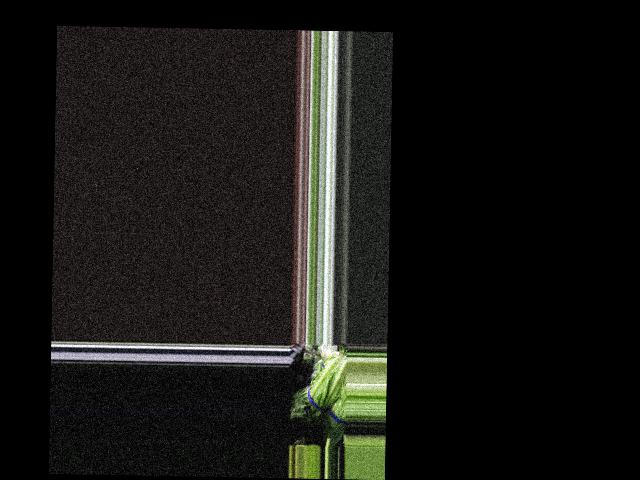lettuce: (294, 358, 347, 423)
